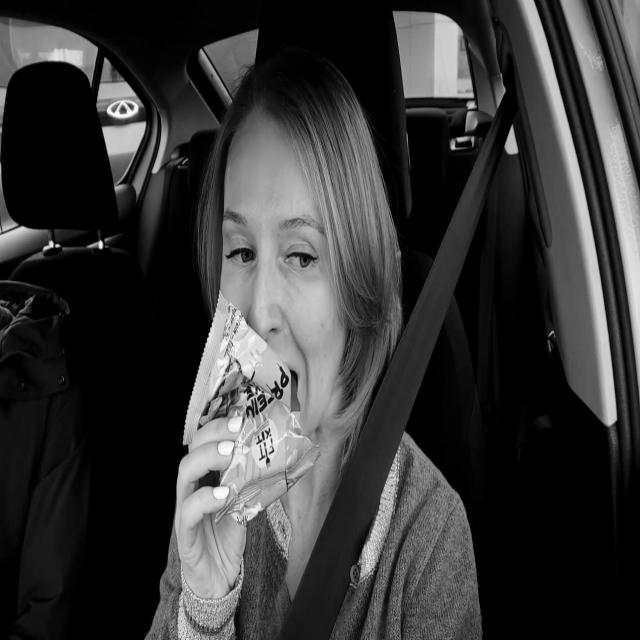Eating: (181, 284, 323, 528)
Seatbelt: (275, 89, 515, 640)
